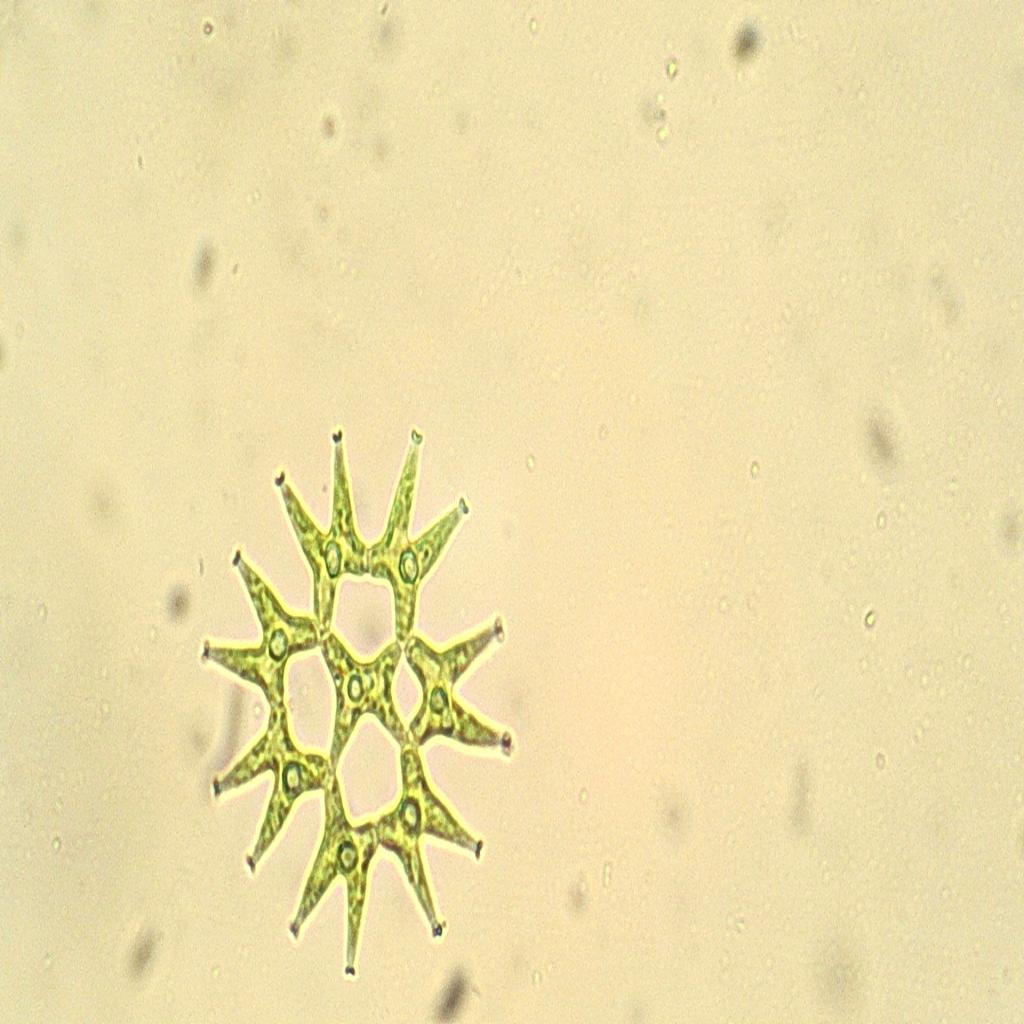Pediastrum_1T: (195, 402, 516, 994)
